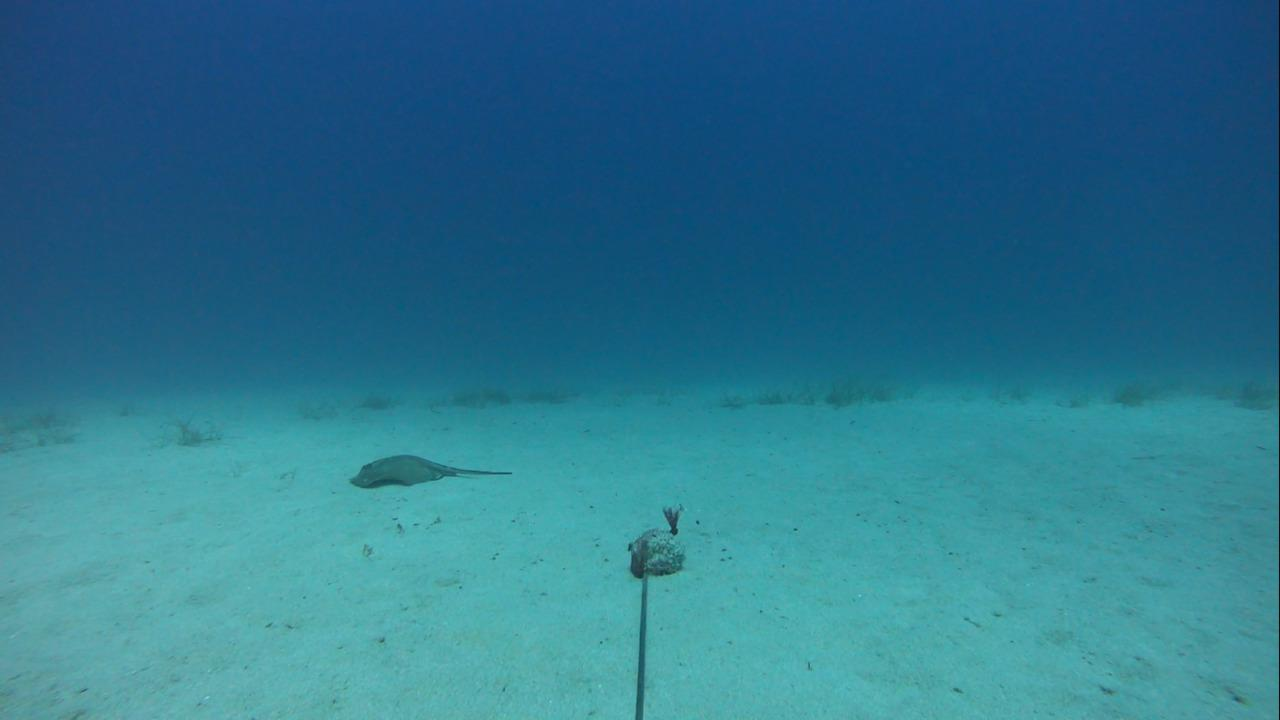myliobatis: (340, 450, 518, 492)
